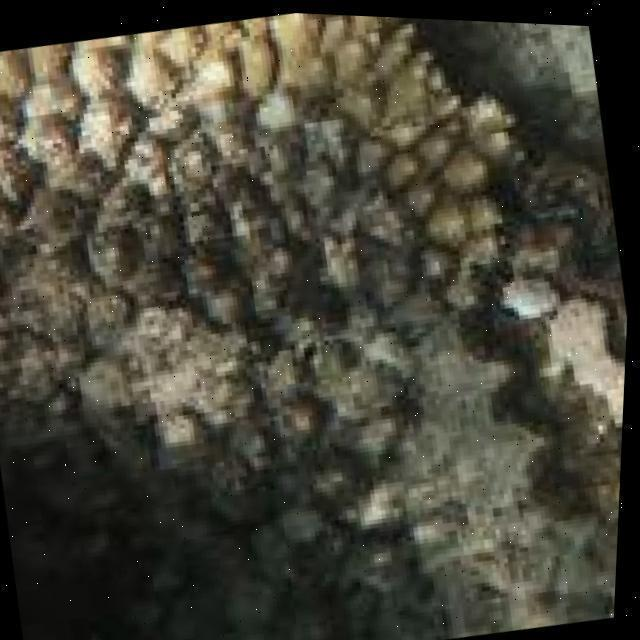Dead Coral: (63, 119, 440, 564)
